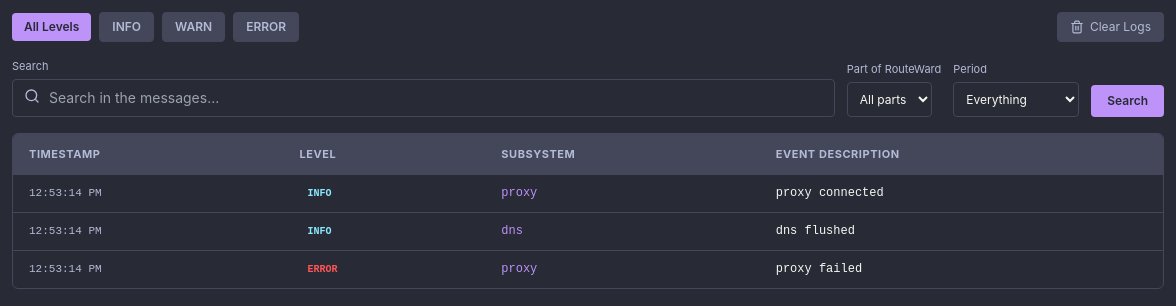
LogsView filters and paging › filters the live list by text, component and level
The image size is (1176, 306).
Check: the text "proxy connected" is shown, box [760, 174, 1163, 212]
Type "failed" into the search field at (423, 98), box [12, 78, 835, 116]
Click the button "Search" at (1128, 100), box [1091, 84, 1164, 116]
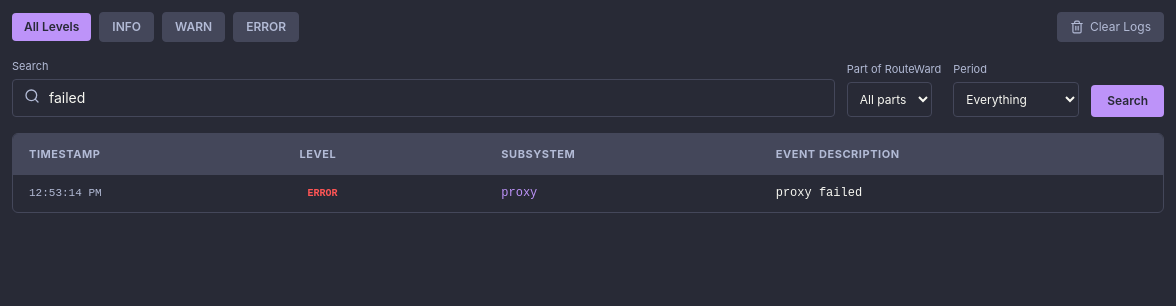
Check: the text "proxy failed" is shown, box [760, 174, 1163, 212]
Check: the text "proxy connected" is gone
Clear the search field at (423, 98), box [12, 78, 835, 116]
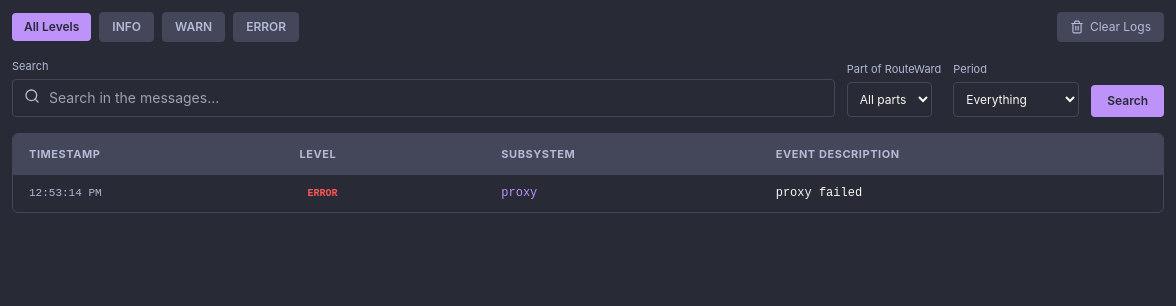
Click the button "Search" at (1128, 100), box [1091, 84, 1164, 116]
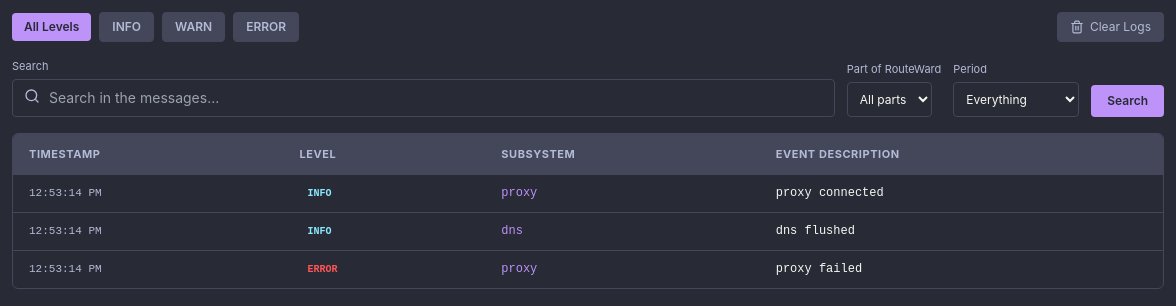
Select "dns" in the dropdown labelled "Part of RouteWard" at (889, 99), box [847, 82, 932, 116]
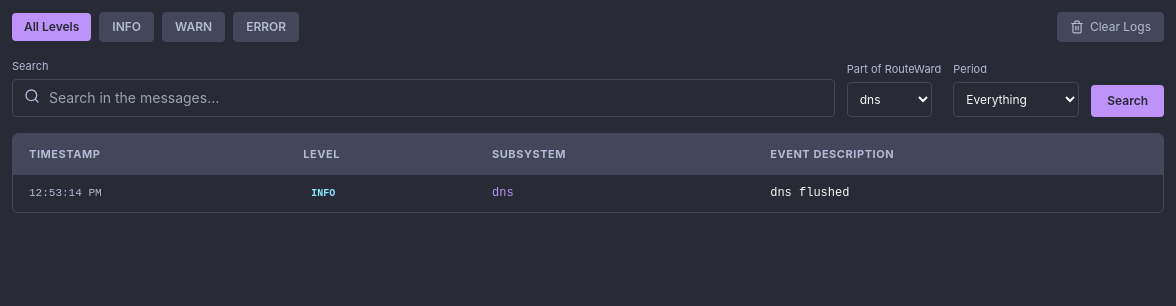
Check: the text "dns flushed" is shown, box [754, 174, 1163, 212]
Check: the text "proxy failed" is gone
Select "All parts" in the dropdown labelled "Part of RouteWard" at (889, 99), box [847, 82, 932, 116]
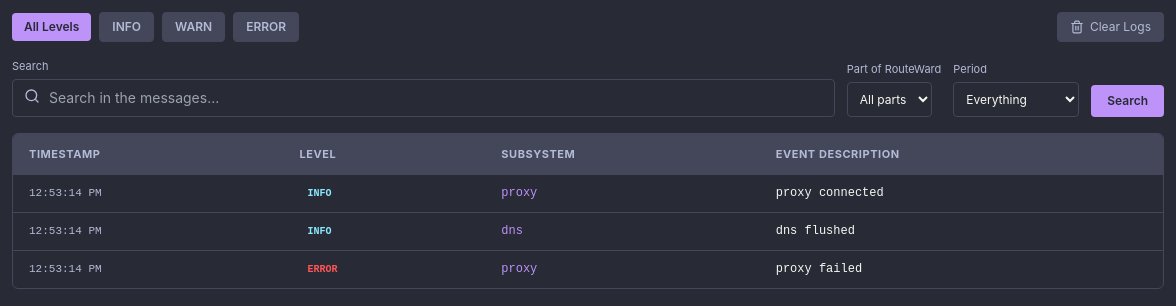
Click the button "ERROR" at (266, 27), box [233, 12, 299, 42]
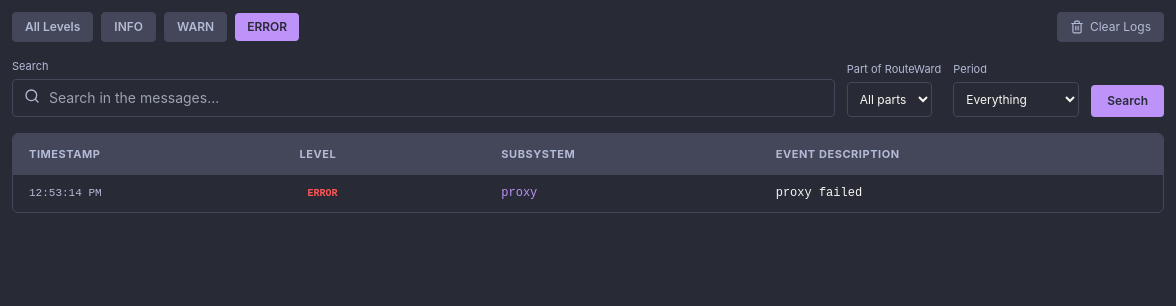
Check: the text "proxy failed" is shown, box [760, 174, 1163, 212]
Check: the text "dns flushed" is gone
